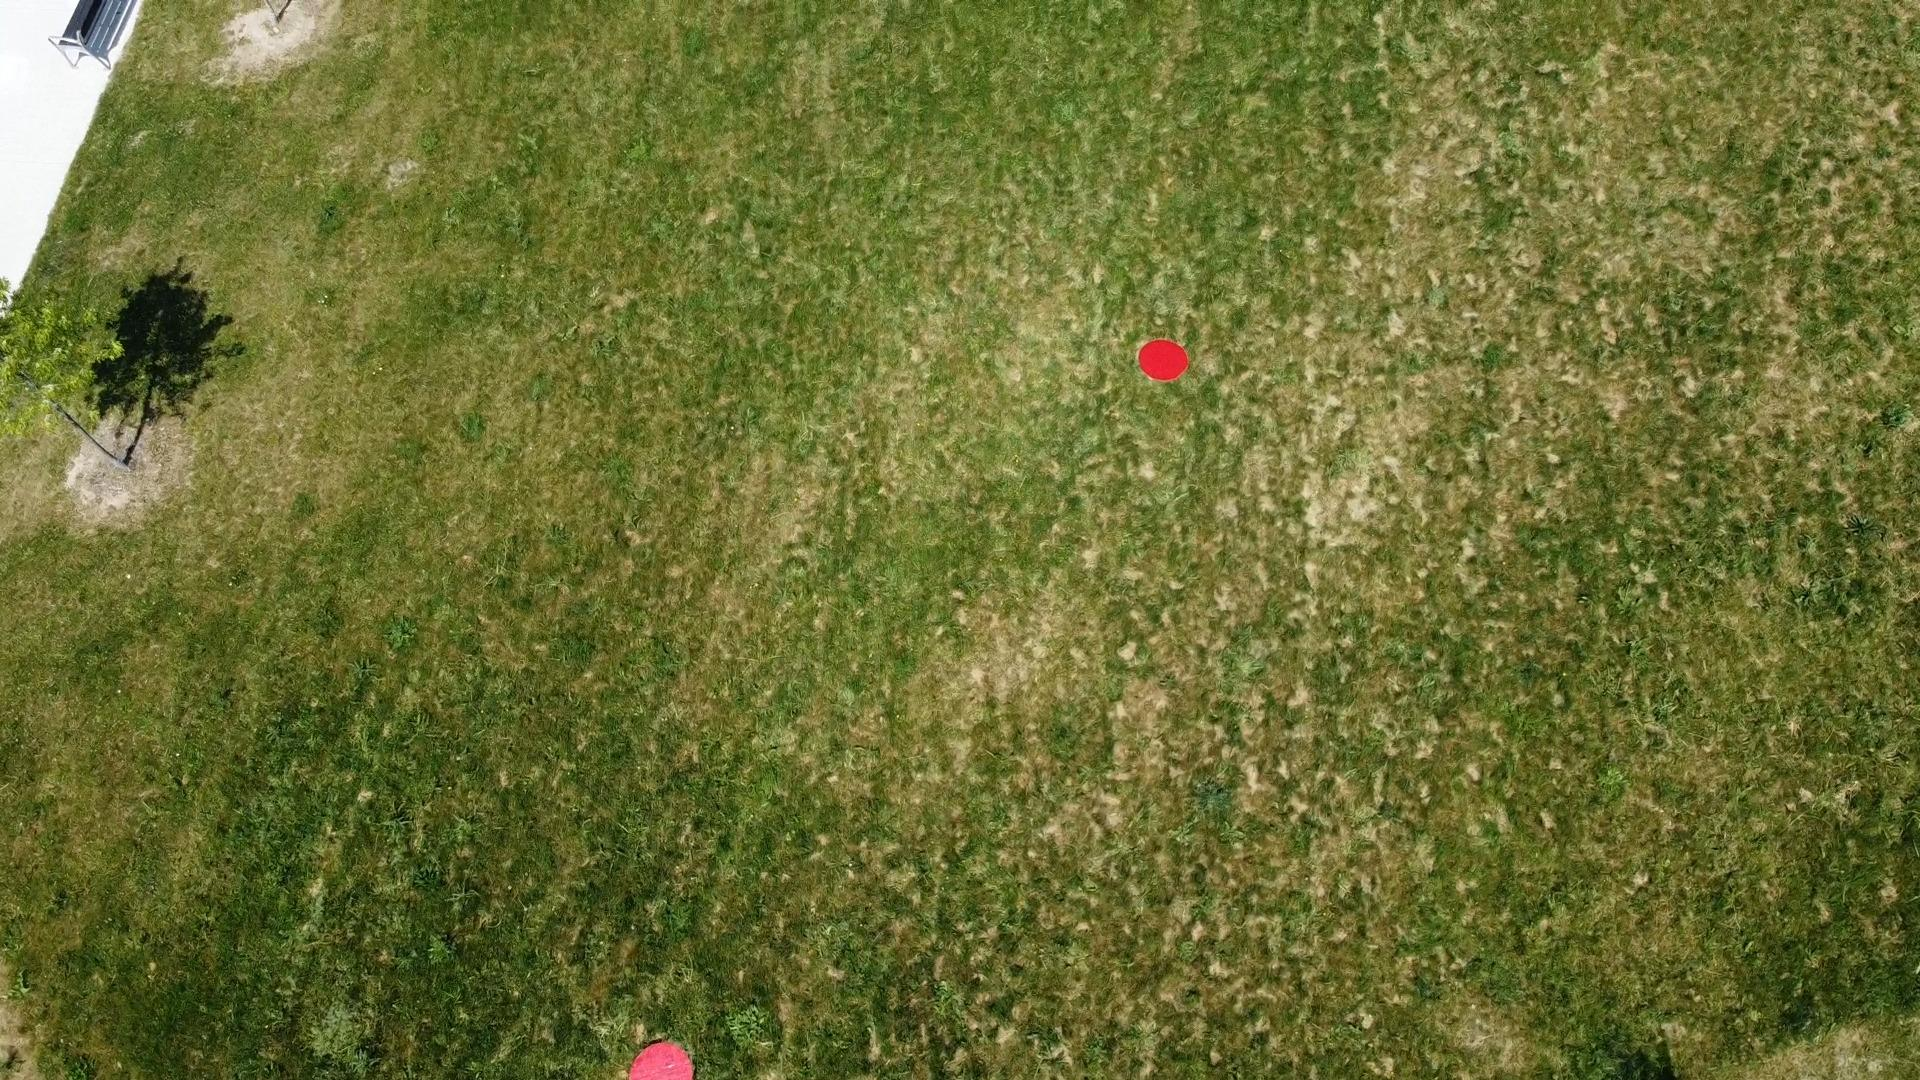Red: (624, 1039, 700, 1080), (1134, 336, 1192, 384)
